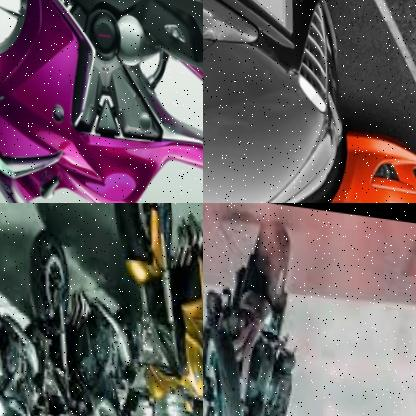bike: (4, 227, 143, 416), (203, 203, 312, 416), (102, 203, 203, 416), (0, 241, 53, 416)
car: (203, 0, 353, 203), (252, 117, 416, 203)
